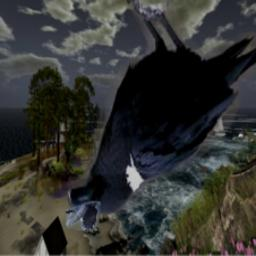Crow: (68, 0, 256, 215), (65, 201, 100, 230)
